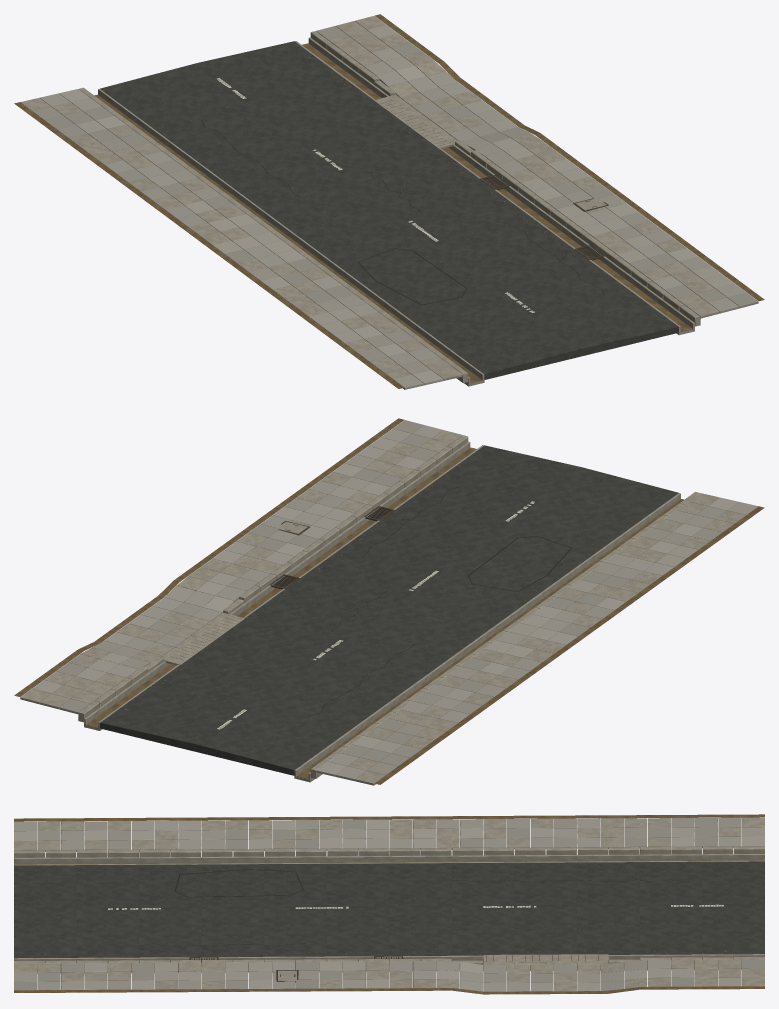
Rendered from street-near.glb.
The picture shows the model from 3 angles, top to bottom: view 1: azimuth 30°, elevation 25°; view 2: azimuth 150°, elevation 25°; view 3: azimuth 270°, elevation 25°; orthographic projection. The views are drawn at different scales.
Visible parts, largest first — view 1: Road crown • 7.0m carriageway, Irregular utility trench patch, Drain retaining wall.001, Graded frontage shoulder, Drain retaining wall.003, Silt on drain floor.001, Silt on drain floor, Graded frontage shoulder.001, Driveway reinforced drain bridge, Drain retaining wall.002; view 2: Road crown • 7.0m carriageway, Irregular utility trench patch, Drain retaining wall.001, Graded frontage shoulder, Drain retaining wall.003, Silt on drain floor.001, Graded frontage shoulder.001, Silt on drain floor, Driveway reinforced drain bridge, Drain retaining wall.002; view 3: Road crown • 7.0m carriageway, Drain retaining wall, Irregular utility trench patch, Graded frontage shoulder, Drain retaining wall.002, Graded frontage shoulder.001, Drain retaining wall.001, Driveway reinforced drain bridge, Silt on drain floor, Graded frontage shoulder.005, Graded frontage shoulder.003, Patch sealed perimeter.
Part boxes in pixels (x1,y1,x2,y2): Road crown • 7.0m carriageway: [100, 41, 678, 379]; Irregular utility trench patch: [359, 249, 466, 304]; Drain retaining wall.001: [98, 89, 484, 381]; Graded frontage shoulder: [14, 102, 404, 388]; Drain retaining wall.003: [308, 37, 694, 330]; Silt on drain floor.001: [302, 43, 692, 331]; Silt on drain floor: [94, 94, 481, 383]; Graded frontage shoulder.001: [535, 133, 764, 301]; Driveway reinforced drain bridge: [374, 96, 454, 148]; Drain retaining wall.002: [295, 41, 680, 333]; Road crown • 7.0m carriageway: [100, 445, 678, 775]; Irregular utility trench patch: [469, 536, 570, 591]; Drain retaining wall.001: [294, 493, 680, 777]; Graded frontage shoulder: [374, 506, 764, 784]; Drain retaining wall.003: [84, 441, 470, 725]; Silt on drain floor.001: [86, 447, 476, 727]; Graded frontage shoulder.001: [175, 418, 404, 581]; Silt on drain floor: [297, 499, 683, 778]; Driveway reinforced drain bridge: [164, 614, 244, 665]; Drain retaining wall.002: [98, 445, 483, 729]; Road crown • 7.0m carriageway: [14, 861, 764, 958]; Drain retaining wall: [14, 854, 764, 864]; Irregular utility trench patch: [176, 869, 302, 896]; Graded frontage shoulder: [14, 814, 764, 821]; Drain retaining wall.002: [14, 954, 764, 963]; Graded frontage shoulder.001: [14, 988, 451, 992]; Drain retaining wall.001: [14, 860, 764, 865]; Driveway reinforced drain bridge: [483, 954, 608, 964]; Silt on drain floor: [14, 860, 764, 864]; Graded frontage shoulder.005: [639, 986, 764, 989]; Graded frontage shoulder.003: [483, 991, 608, 994]; Patch sealed perimeter: [174, 869, 303, 897].
Bounding box in the file's own units: 13.2 × 0.6438 × 24.
13 materials, 3 textured.
